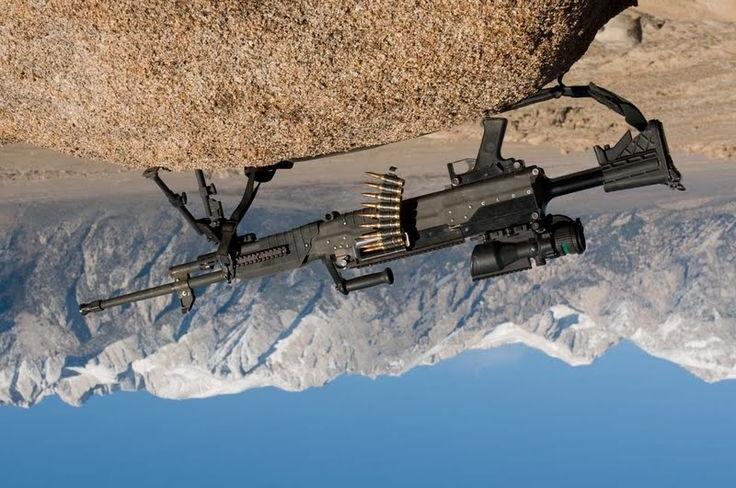larga: (77, 117, 687, 318)
